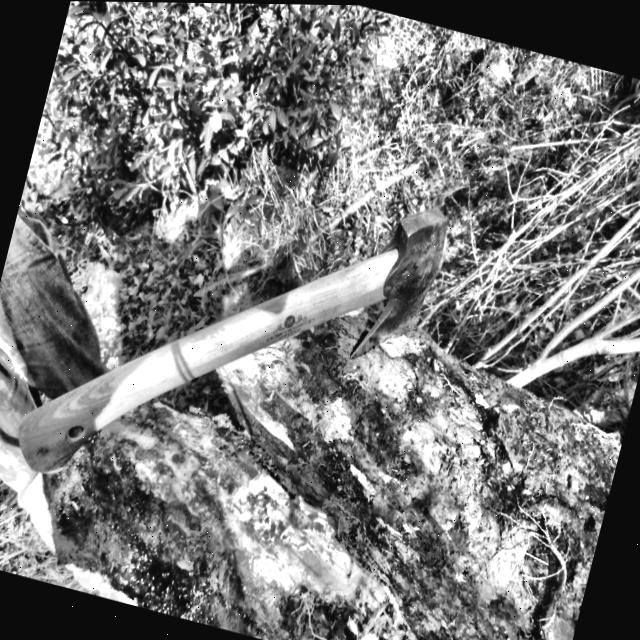kapak: (5, 188, 455, 487)
